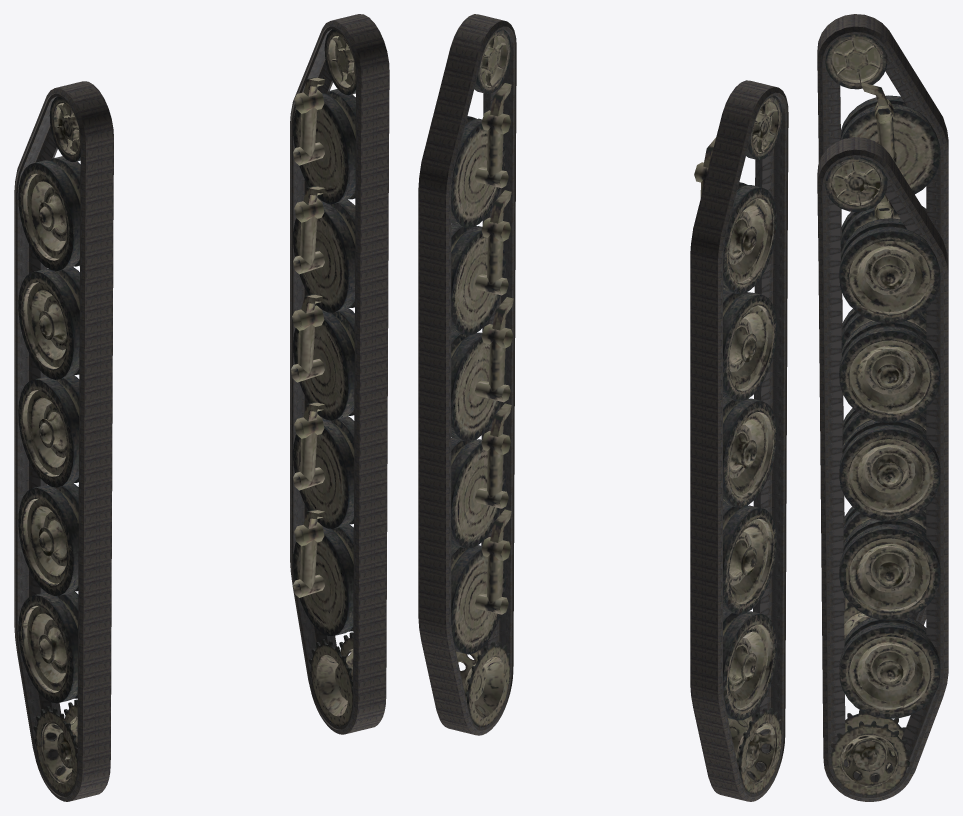
File: Chassis.glb
3 renders of one model, left to right at view 1: azimuth 30°, elevation 25°; view 2: azimuth 150°, elevation 25°; view 3: azimuth 270°, elevation 25°, orthographic. The views are drawn at different scales.
Parts seen in each view (by area): view 1: set_3_group_0, set_2_group_0, set_0_group_0, set_1_group_0; view 2: set_0_group_0, set_3_group_0, set_1_group_0, set_2_group_0; view 3: set_3_group_0, set_1_group_0, set_2_group_0, set_0_group_0.
Part boxes in pixels (<box>): set_3_group_0: <box>291,29,356,726</box>; set_2_group_0: <box>18,96,80,793</box>; set_0_group_0: <box>14,81,113,801</box>; set_1_group_0: <box>290,14,389,734</box>; set_0_group_0: <box>690,80,788,801</box>; set_3_group_0: <box>451,29,513,727</box>; set_1_group_0: <box>418,14,516,735</box>; set_2_group_0: <box>694,95,782,793</box>; set_3_group_0: <box>825,157,940,795</box>; set_1_group_0: <box>817,137,948,801</box>; set_2_group_0: <box>825,34,940,638</box>; set_0_group_0: <box>817,14,948,625</box>.
Bounding box in the file's own units: 2.62 × 5.69 × 1.04.
Materials: 4 (4 with a texture image).
